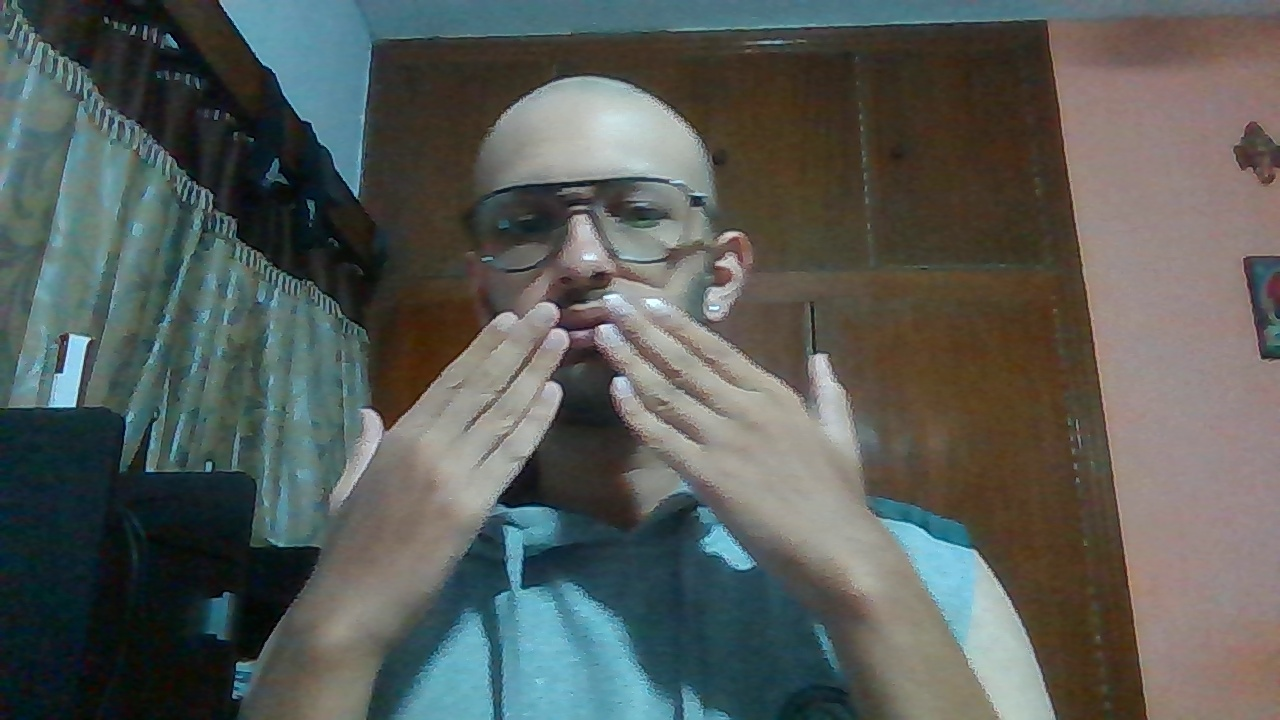Thank You: (321, 292, 914, 584)
